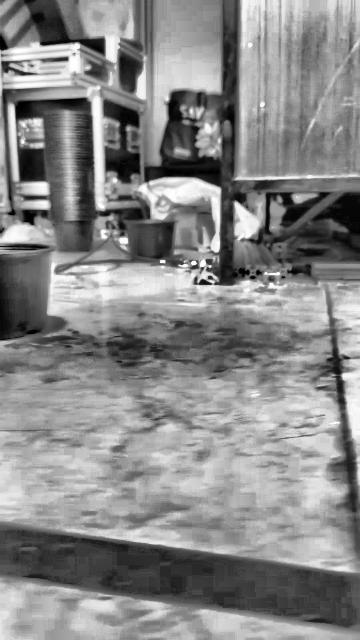pot: (0, 243, 53, 340), (127, 219, 176, 260)
